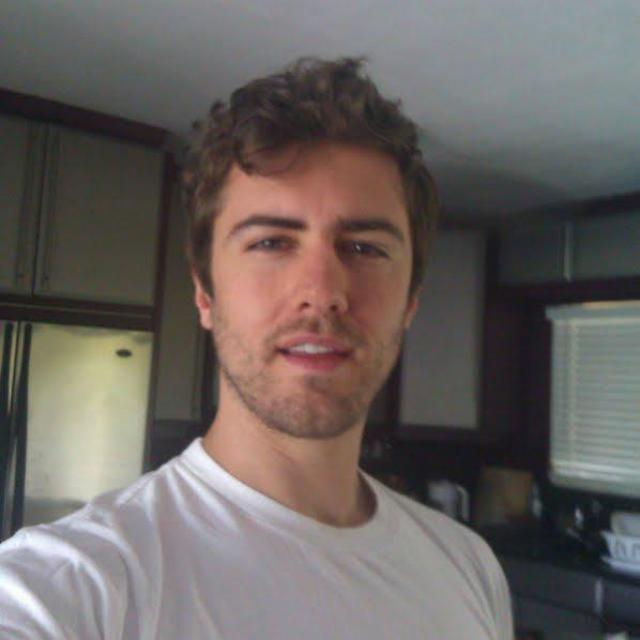human: (0, 45, 521, 640)
